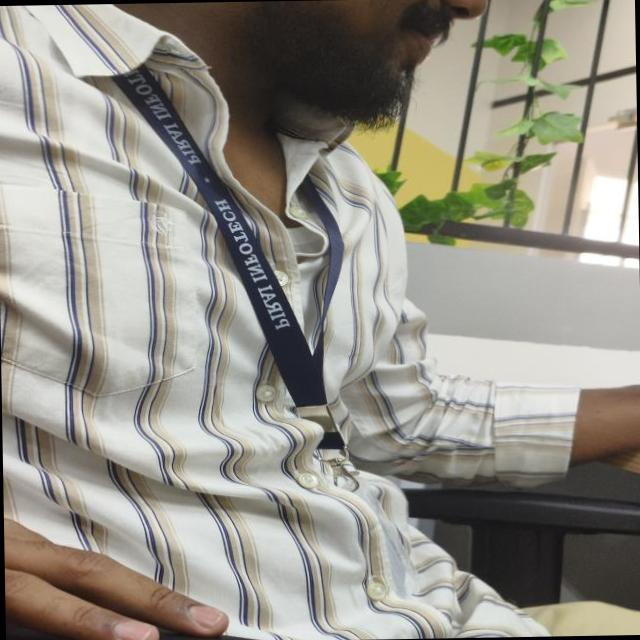id_card: (128, 41, 364, 502)
